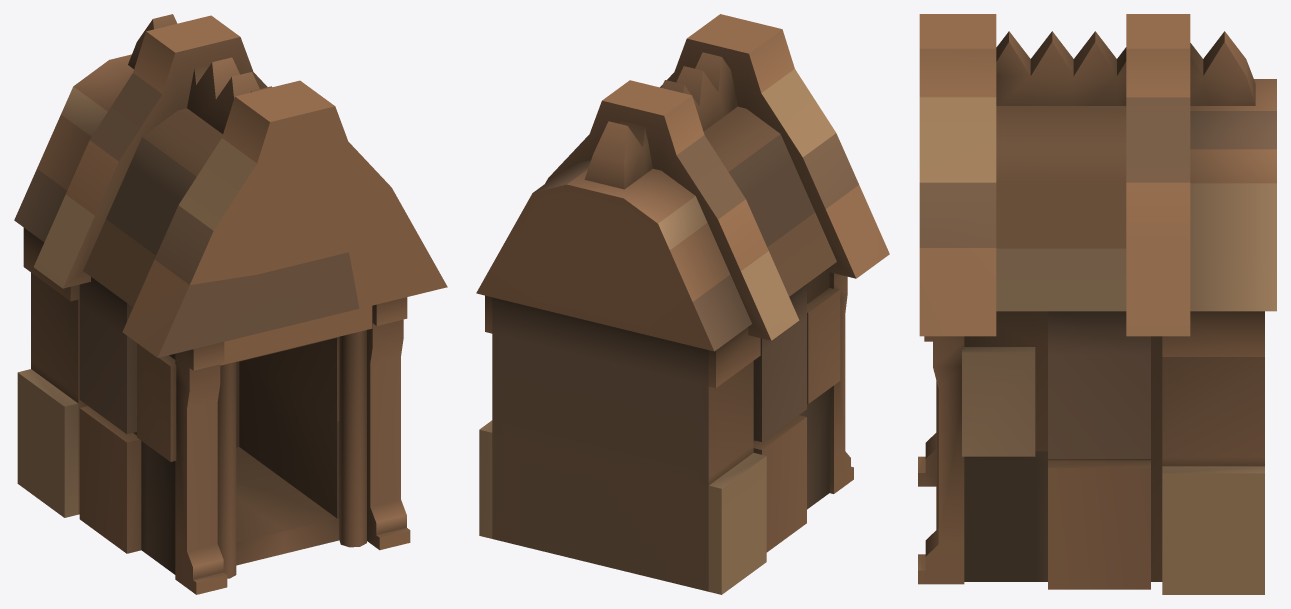
Rendered from buildings-ruins-templeruins_v6.glb.
The picture shows the model from 3 angles, left to right: view 1: azimuth 30°, elevation 25°; view 2: azimuth 150°, elevation 25°; view 3: azimuth 270°, elevation 25°; orthographic projection. The views are drawn at different scales.
Visible parts, largest first — view 1: TempleRuins_v6; view 2: TempleRuins_v6; view 3: TempleRuins_v6.
Part boxes in pixels (box(x1,y1,x2,y2)): TempleRuins_v6: box(14, 14, 447, 594); TempleRuins_v6: box(476, 14, 889, 594); TempleRuins_v6: box(918, 14, 1276, 594).
Bounding box in the file's own units: 5.29 × 7.92 × 5.19.
